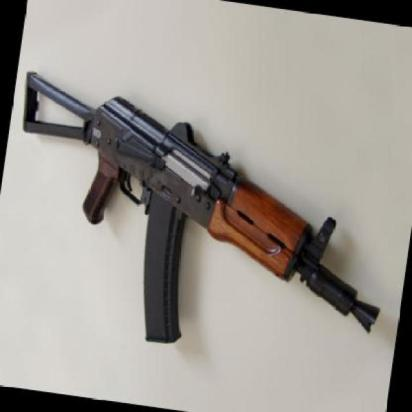Gun: (0, 45, 411, 381)
